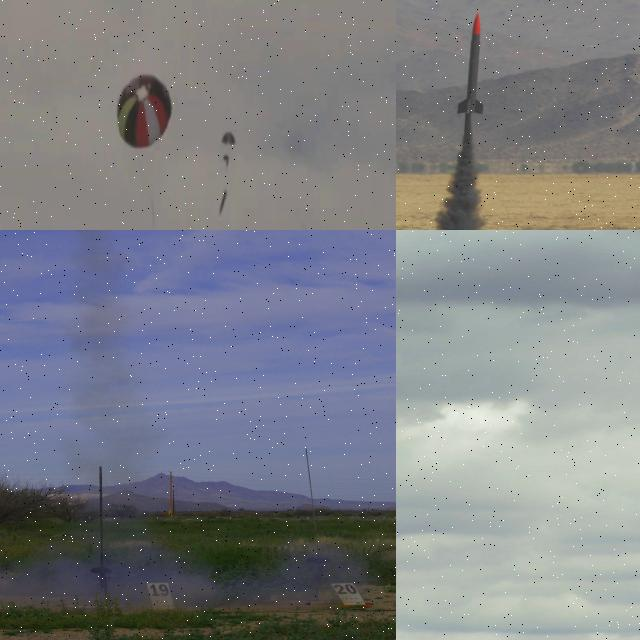Rocket: (456, 12, 485, 116)
